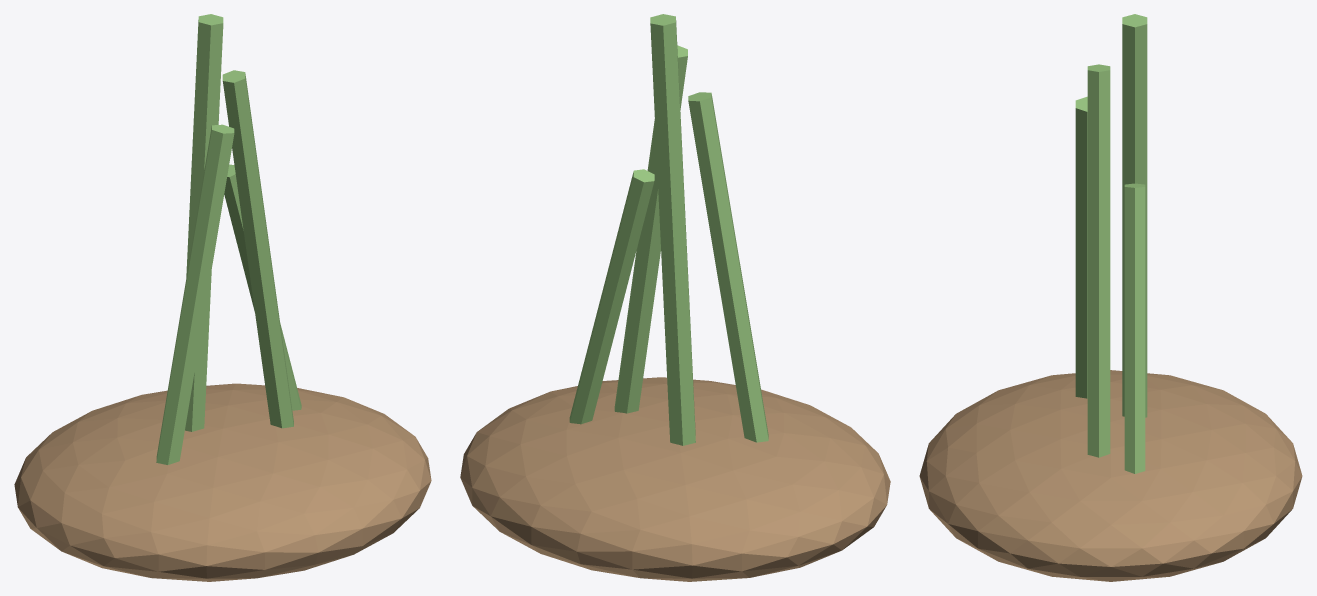
Rendered from cebolla_creciendo.glb.
3 renders of one model, left to right at view 1: azimuth 30°, elevation 25°; view 2: azimuth 150°, elevation 25°; view 3: azimuth 270°, elevation 25°, orthographic. The views are drawn at different scales.
Parts seen in each view (by area): view 1: dirt, s3, s1, s2, s4; view 2: dirt, s2, s1, s4, s3; view 3: dirt, s3, s4, s2, s1.
Boxes of the visible parts, x1=… form: dirt: x1=14, y1=383, x2=431, y2=581; s3: x1=222, y1=70, x2=293, y2=428; s1: x1=156, y1=124, x2=234, y2=464; s2: x1=185, y1=14, x2=223, y2=431; s4: x1=224, y1=164, x2=301, y2=410; dirt: x1=460, y1=377, x2=890, y2=581; s2: x1=650, y1=14, x2=695, y2=445; s1: x1=688, y1=92, x2=768, y2=442; s4: x1=569, y1=169, x2=654, y2=424; s3: x1=614, y1=45, x2=687, y2=413; dirt: x1=919, y1=370, x2=1302, y2=581; s3: x1=1087, y1=64, x2=1110, y2=457; s4: x1=1124, y1=183, x2=1145, y2=473; s2: x1=1122, y1=14, x2=1147, y2=417; s1: x1=1075, y1=96, x2=1087, y2=398.
Size of the model in its own units: 0.36 by 0.4703 by 0.32.
